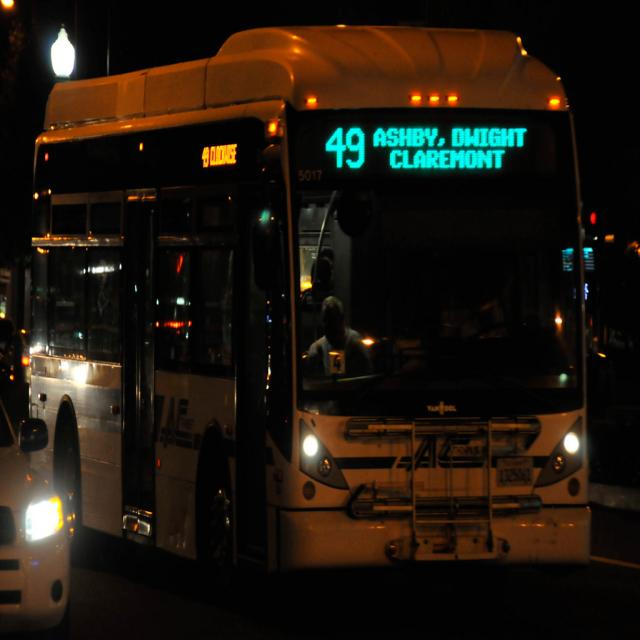Bus: (29, 64, 640, 603)
People: (315, 280, 378, 425)
car: (0, 371, 84, 639)
